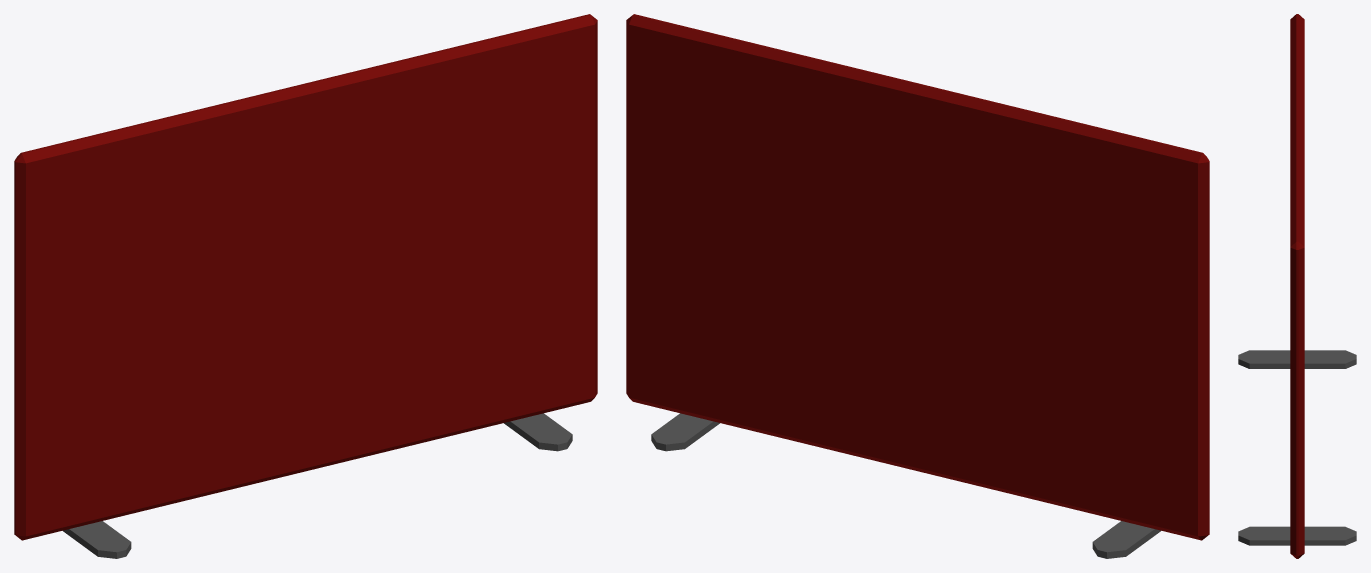
File: Skillevæg_2.fbx
The picture shows the model from 3 angles, left to right: view 1: azimuth 30°, elevation 25°; view 2: azimuth 150°, elevation 25°; view 3: azimuth 270°, elevation 25°; orthographic projection. The views are drawn at different scales.
Parts seen in each view (by area): view 1: Skillevæg_R, SkillevægFødder_R; view 2: Skillevæg_R, SkillevægFødder_R; view 3: Skillevæg_R, SkillevægFødder_R.
Boxes of the visible parts, box(x1,y1,x2,y2) form: Skillevæg_R: box(14, 14, 597, 540); SkillevægFødder_R: box(62, 413, 572, 558); Skillevæg_R: box(626, 14, 1209, 540); SkillevægFødder_R: box(651, 413, 1161, 558); Skillevæg_R: box(1290, 14, 1304, 558); SkillevægFødder_R: box(1238, 350, 1356, 545).
Bounding box in the file's own units: 402 × 260 × 86.51.
